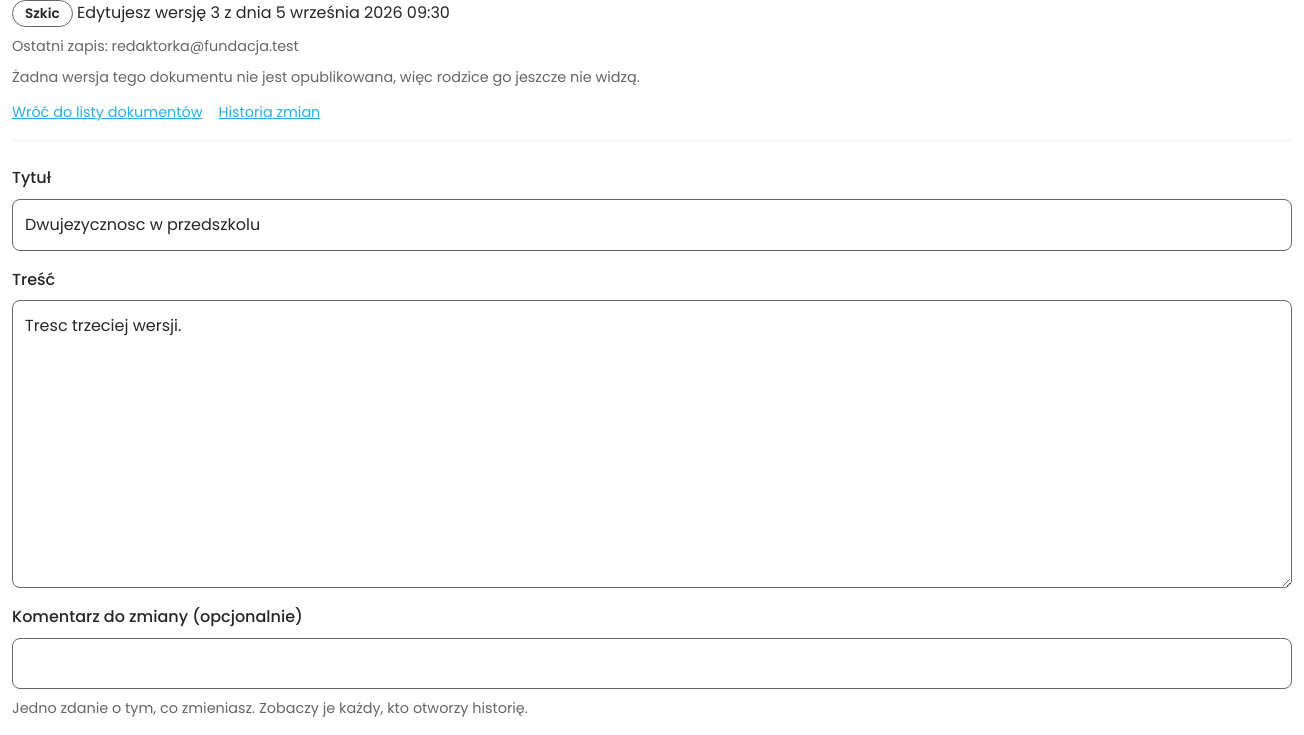
it: DocumentEditor › saves through the versions endpoint and says what happened
Replace the text in the text box labelled "Treść" with "Nowa tresc.": (652, 444) x1=12 y1=300 x2=1292 y2=588
(page scrolled)
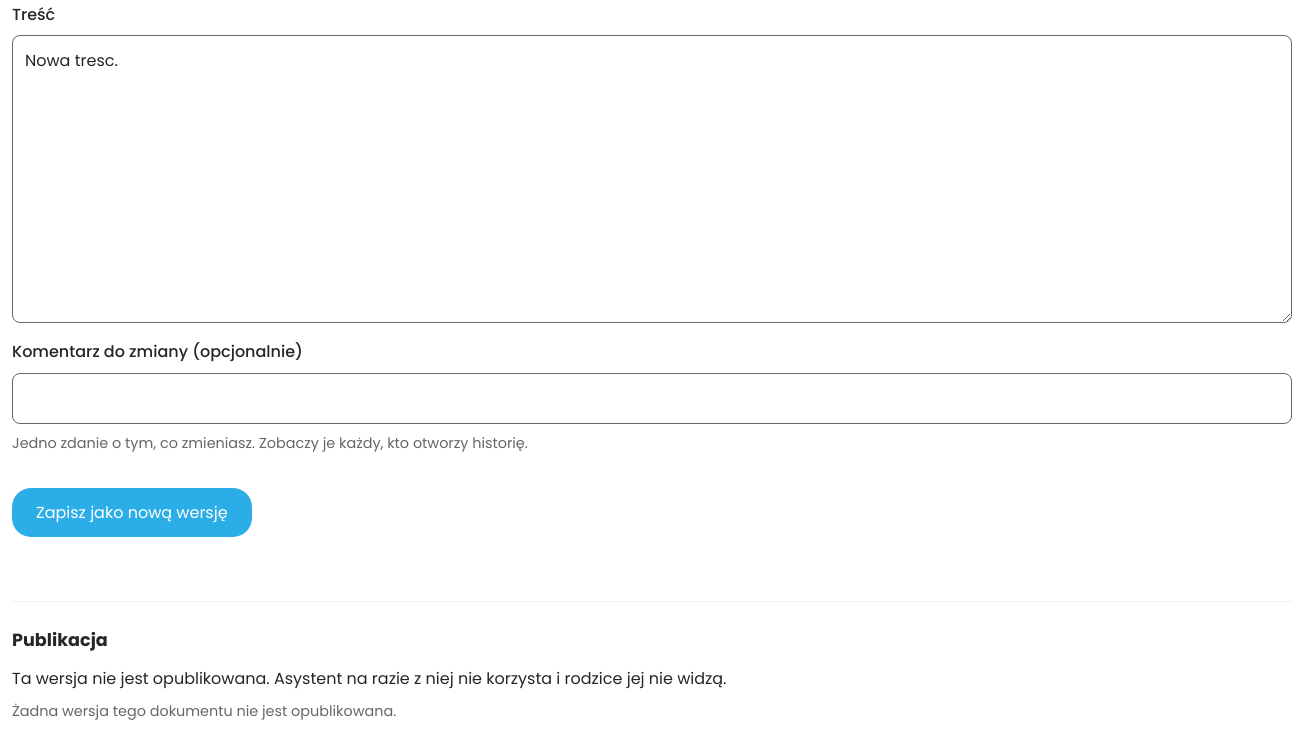
Click the button "Zapisz jako nową wersję": (132, 512) x1=12 y1=488 x2=252 y2=537
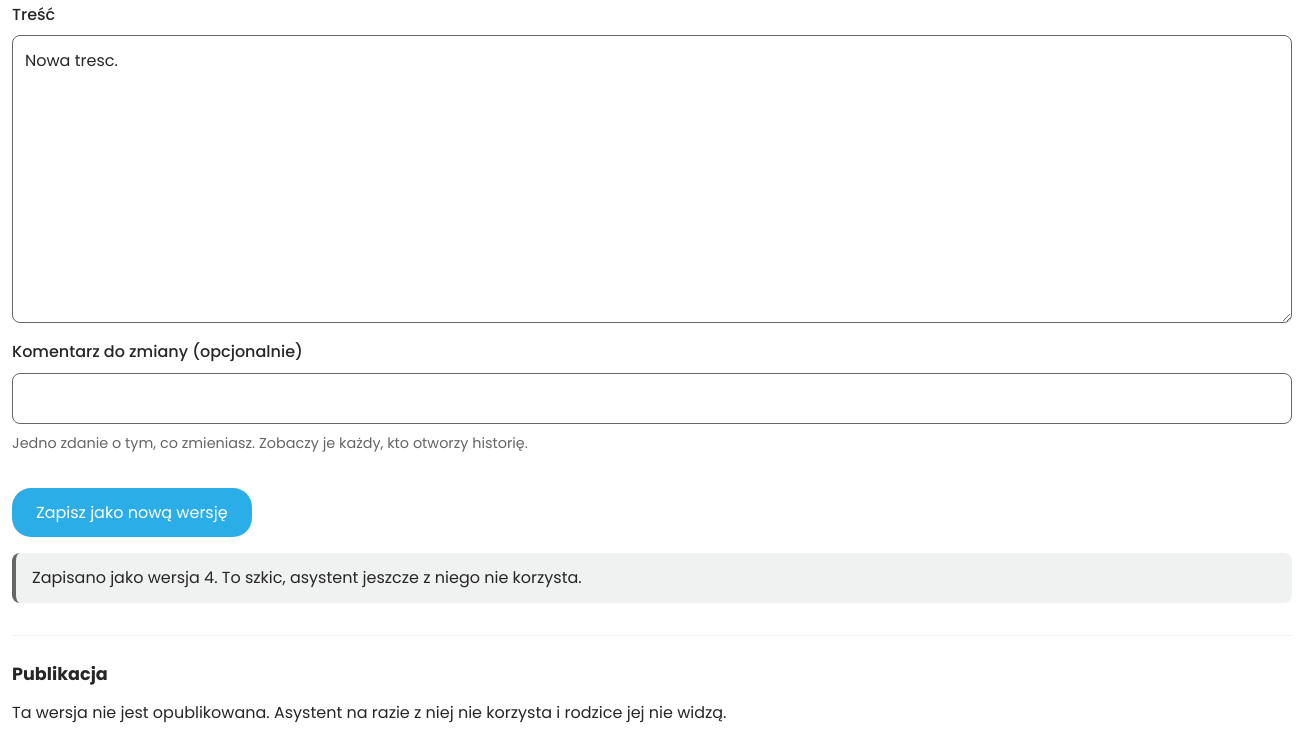
Expected: the text "Zapisano jako wersja 4" is shown, x1=32 y1=566 x2=582 y2=589
